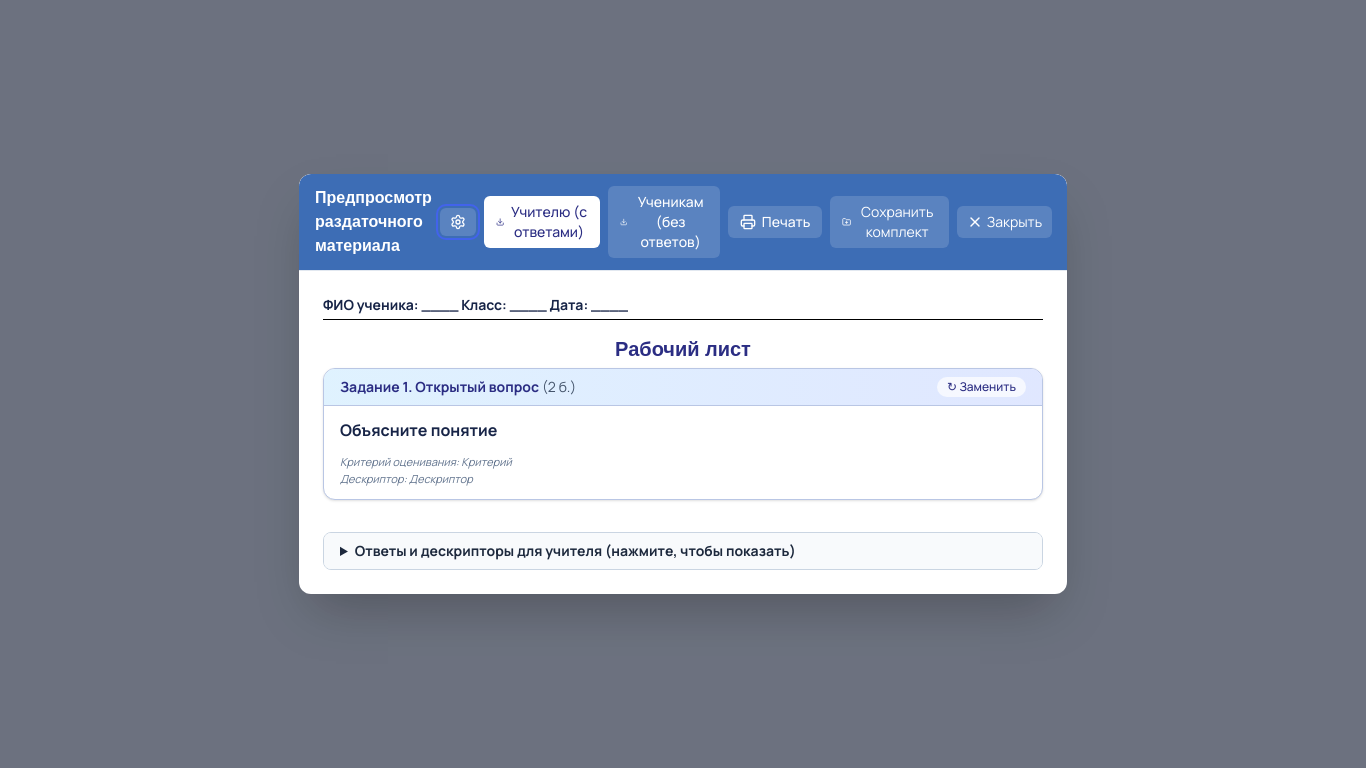
Scenario: настройки предпросмотра › переключатель ответов убирает блок ключей
This screenshot has width=1366, height=768.
Expected: the heading "Ответы и дескрипторы для учителя (нажмите, чтобы показать)" is shown, [324,533,1042,569]
Click the button titled "Настройки": (458, 222) [440,208,476,236]
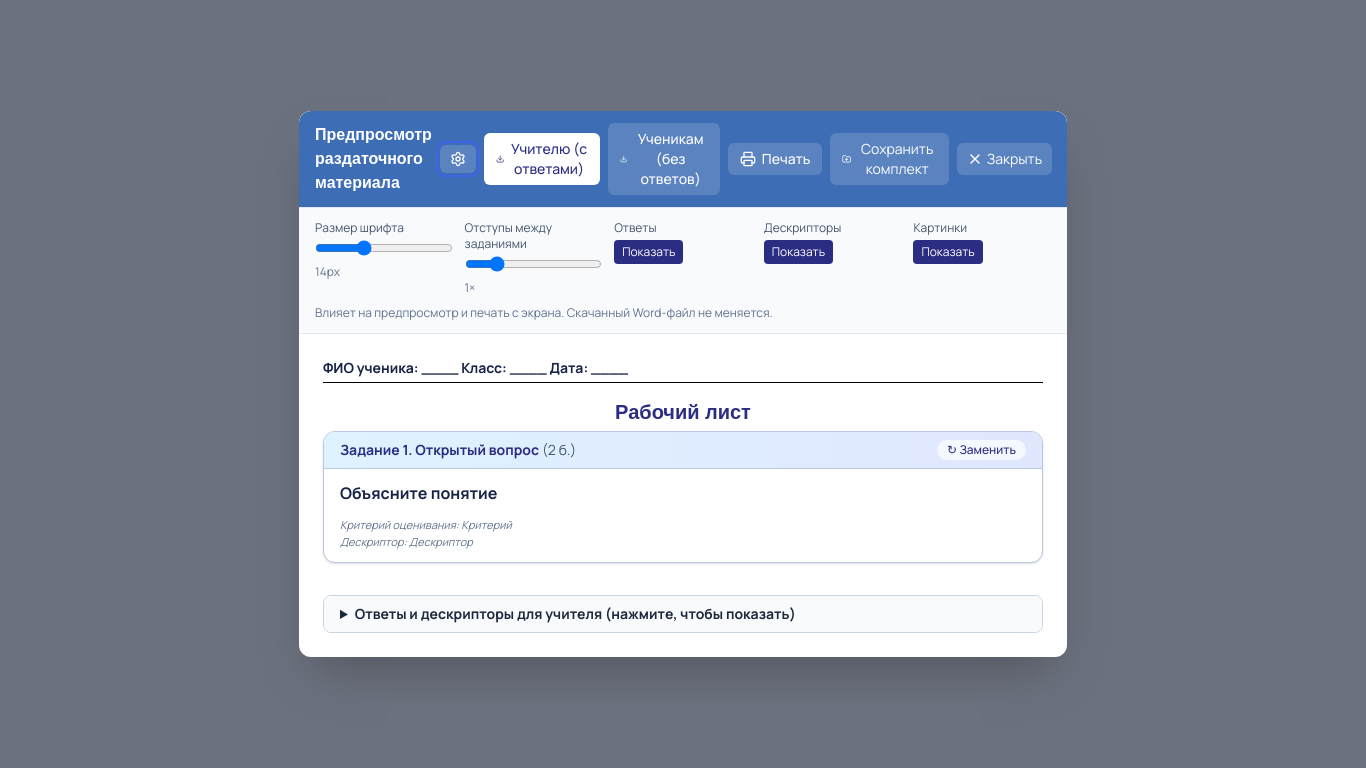
Click the button named "Ответы": (649, 252) [614,240,684,264]
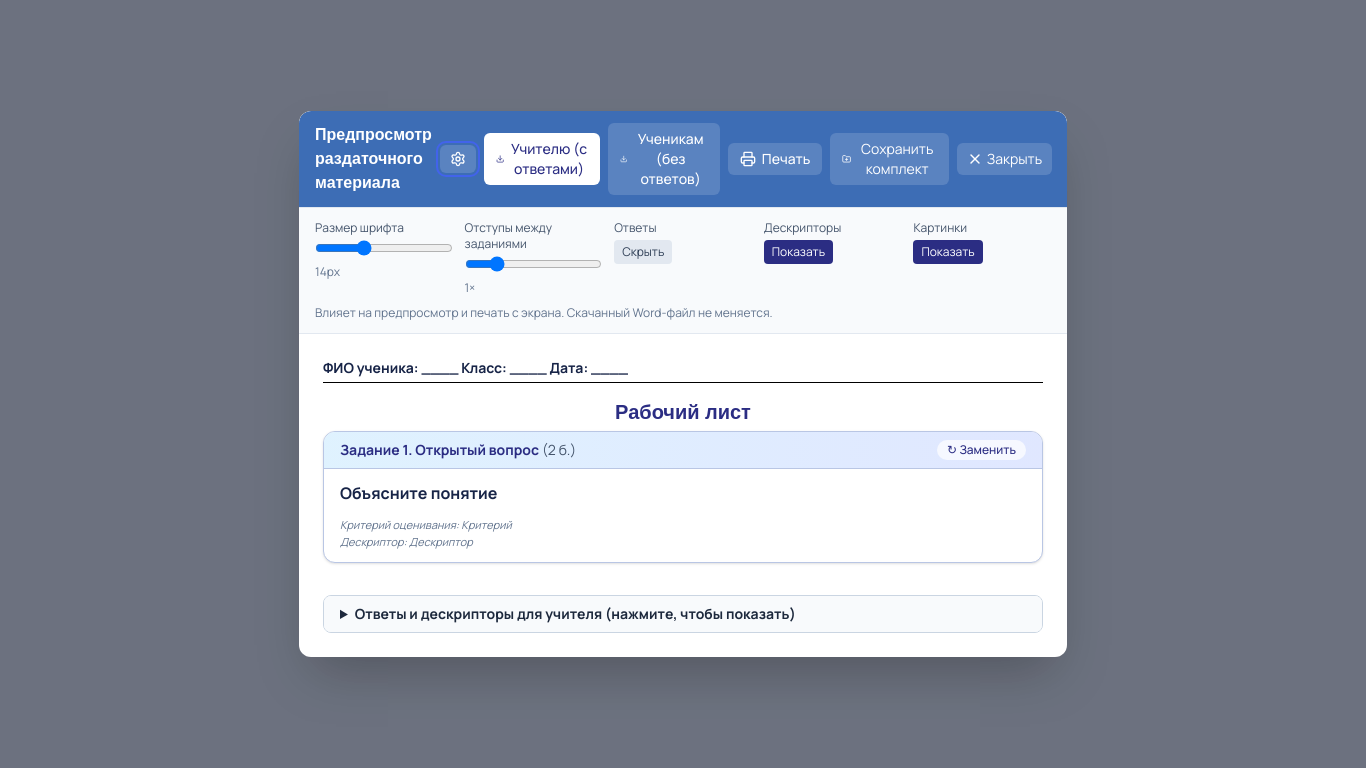
Click the button named "Дескрипторы": (798, 252) [764,240,833,264]
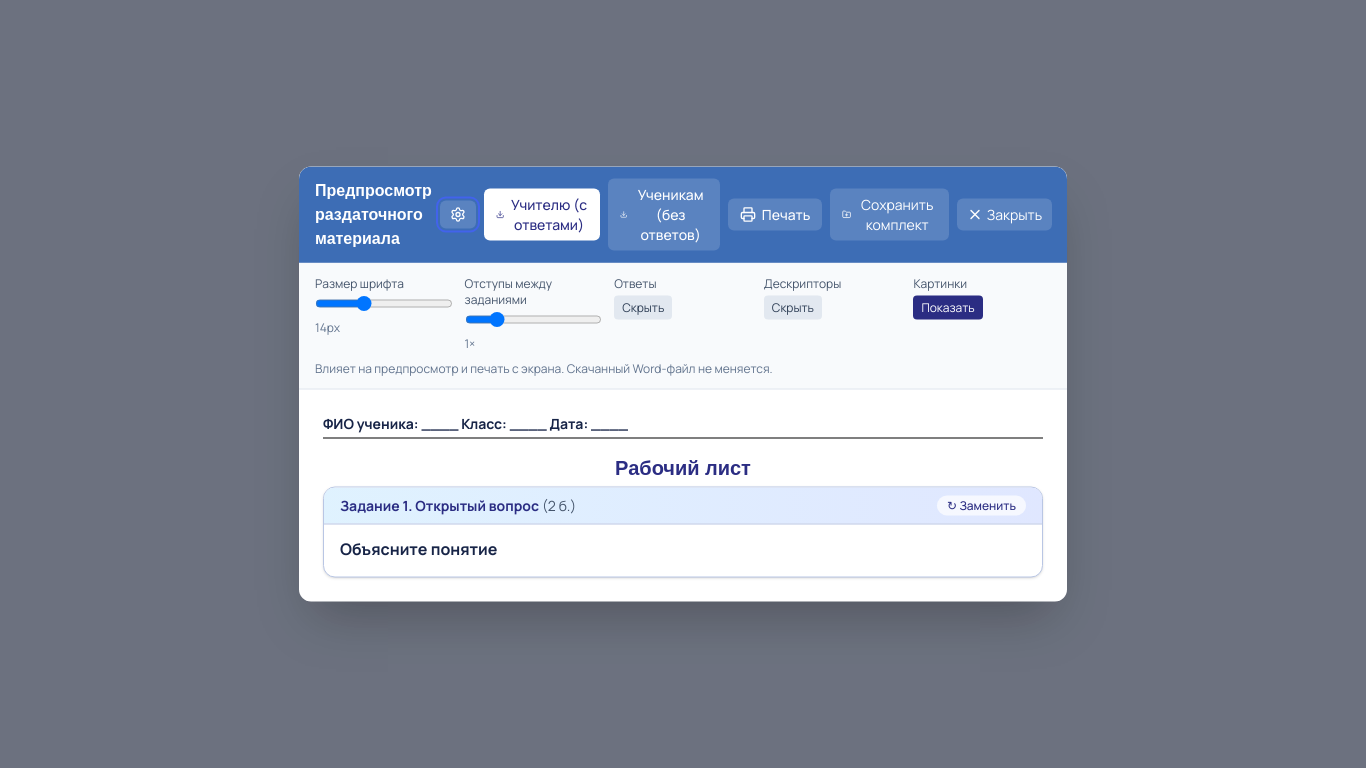
Expected: the heading "Ответы и дескрипторы для учителя (нажмите, чтобы показать)" is gone
